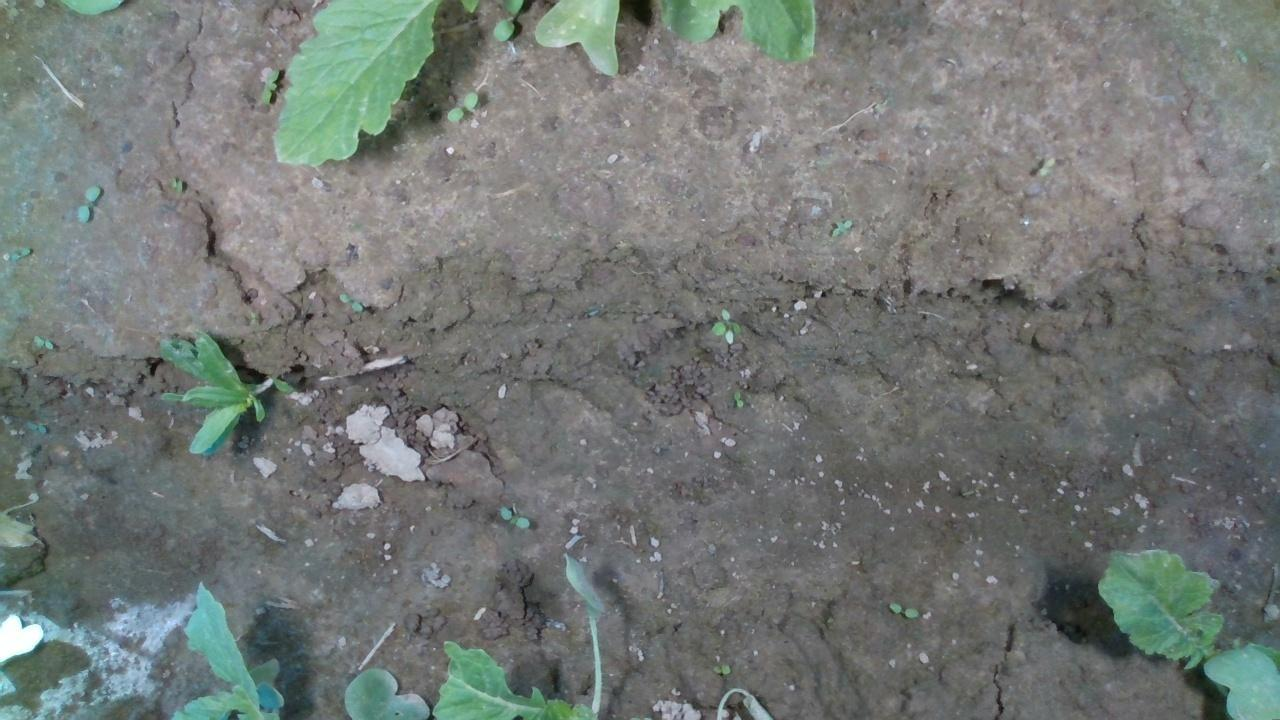weed: (445, 89, 479, 124), (708, 306, 740, 343), (75, 182, 101, 225), (257, 66, 279, 106), (498, 504, 531, 529), (886, 599, 920, 619), (337, 290, 364, 312), (828, 217, 853, 237), (1037, 154, 1055, 177), (31, 332, 54, 350), (8, 245, 31, 261), (167, 175, 184, 193), (709, 660, 730, 674), (731, 388, 744, 409)
